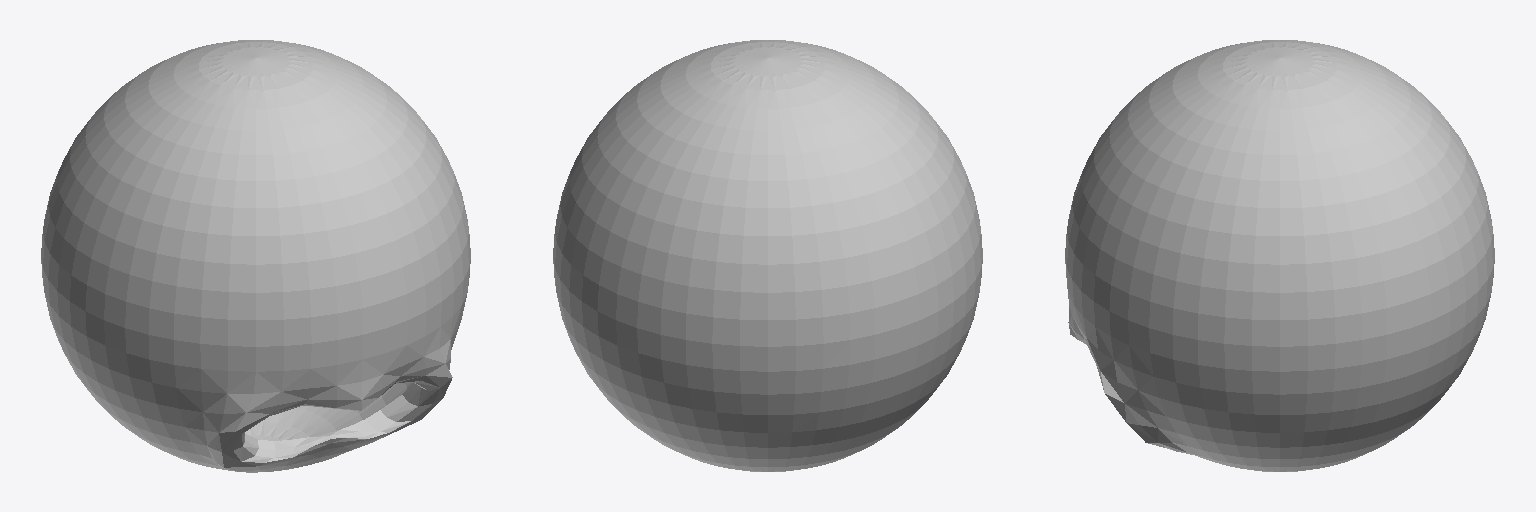
The model's file is morph_terminal.obj.
3 renders of one model, left to right at view 1: azimuth 30°, elevation 25°; view 2: azimuth 150°, elevation 25°; view 3: azimuth 270°, elevation 25°, orthographic.
Visible parts, largest first — view 1: peg_head_ui pegman_head peg_head HyperNURBS_1 HEAD; view 2: peg_head_ui pegman_head peg_head HyperNURBS_1 HEAD; view 3: peg_head_ui pegman_head peg_head HyperNURBS_1 HEAD.
Boxes of the visible parts, x1=… form: peg_head_ui pegman_head peg_head HyperNURBS_1 HEAD: x1=41, y1=40, x2=470, y2=472; peg_head_ui pegman_head peg_head HyperNURBS_1 HEAD: x1=553, y1=40, x2=982, y2=471; peg_head_ui pegman_head peg_head HyperNURBS_1 HEAD: x1=1065, y1=40, x2=1494, y2=471.
Bounding box in the file's own units: 88.94 × 90.26 × 88.94.